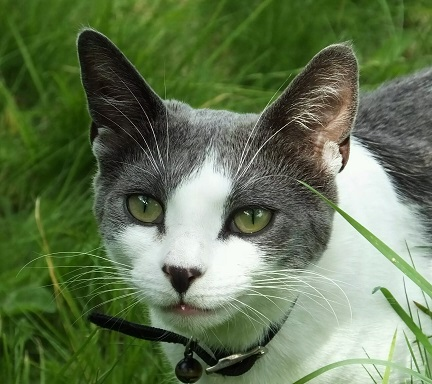cat: (4, 3, 431, 90)
